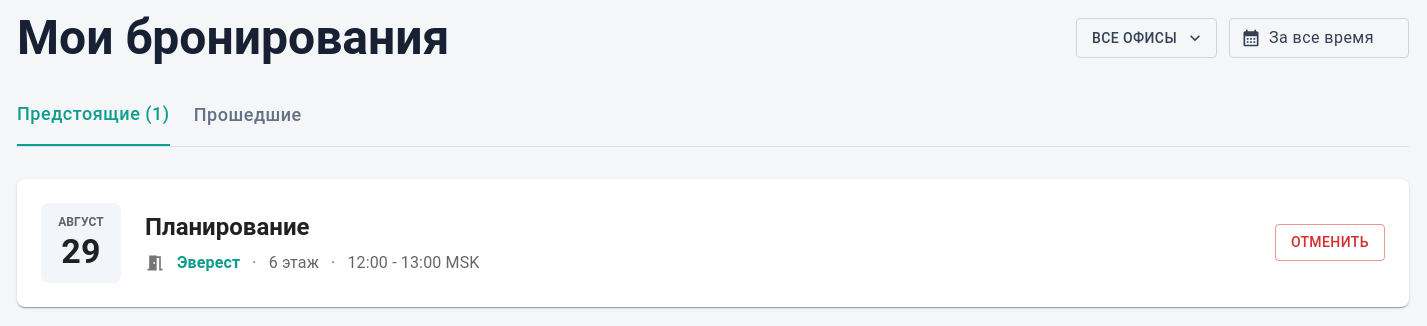
Test: BookingsPage › loads past bookings after tab click
Expected: the heading "Планирование" is shown, x1=145 y1=212 x2=310 y2=240
Click the button "Прошедшие". click: (248, 122)
box: x1=194 y1=98 x2=302 y2=146
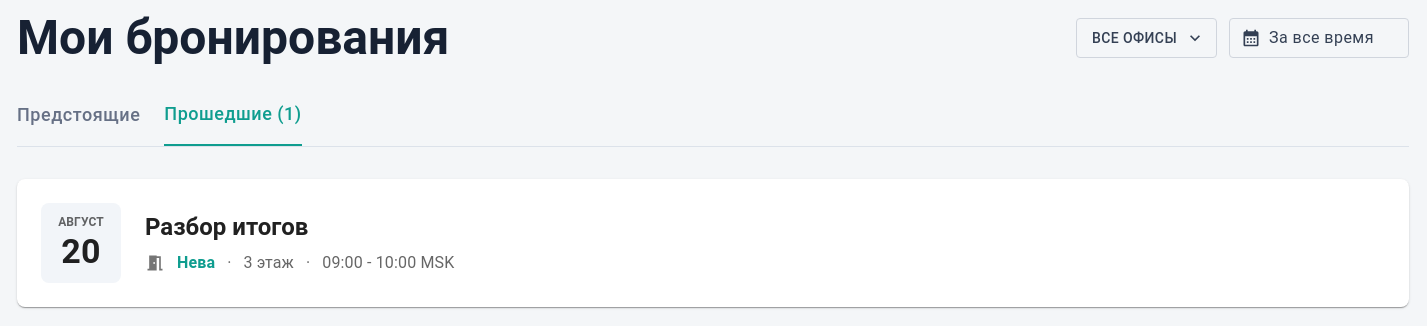
Expected: the heading "Разбор итогов" is shown, x1=145 y1=212 x2=308 y2=240
Expected: the button "Отменить" is gone
